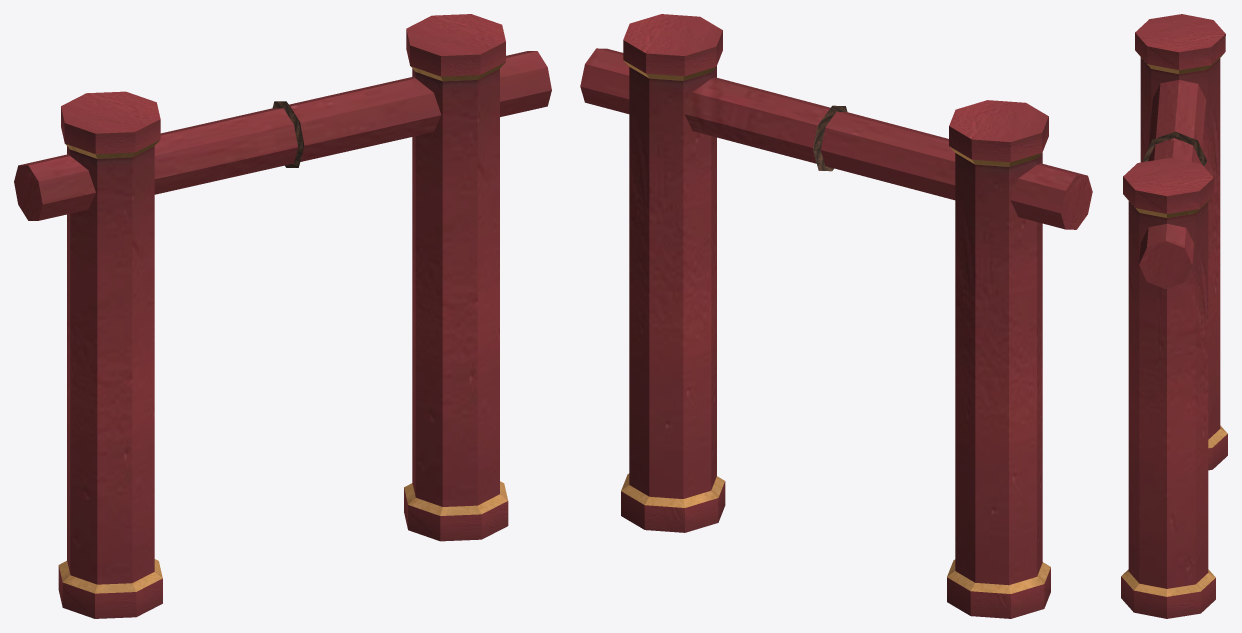
The model's file is bell-structure.glb.
3 views of the same model, side by side, from view 1: azimuth 30°, elevation 25°; view 2: azimuth 150°, elevation 25°; view 3: azimuth 270°, elevation 25° (orthographic). The views are drawn at different scales.
Visible parts, largest first — view 1: BellStructure; view 2: BellStructure; view 3: BellStructure.
Boxes of the visible parts, box(x1,y1,x2,y2) form: BellStructure: box(14, 14, 551, 618); BellStructure: box(580, 14, 1092, 618); BellStructure: box(1121, 14, 1227, 618).
Size of the model in its own units: 3.69 by 3.41 by 0.7805.
3 materials, 3 textured.
